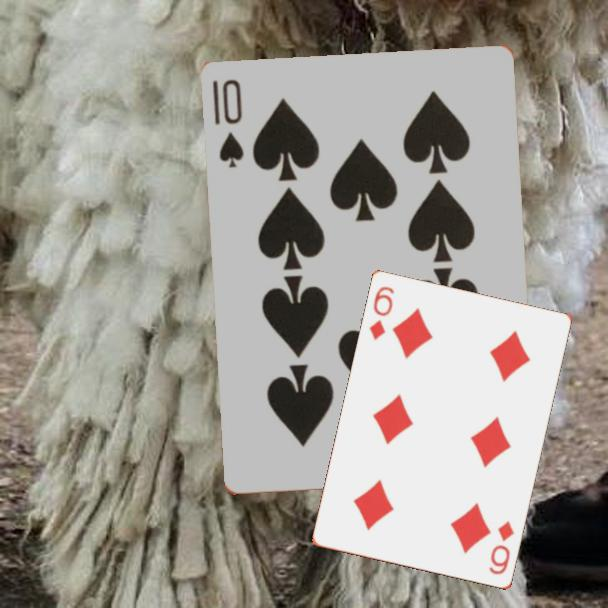d06: (366, 283, 397, 344), (486, 518, 517, 578)
s10: (209, 76, 247, 171)
